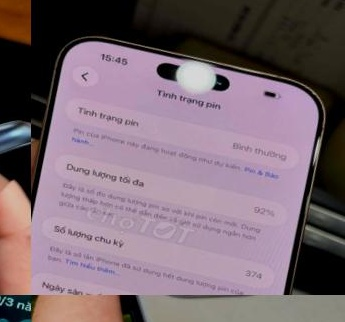scratch: (0, 44, 31, 295)
